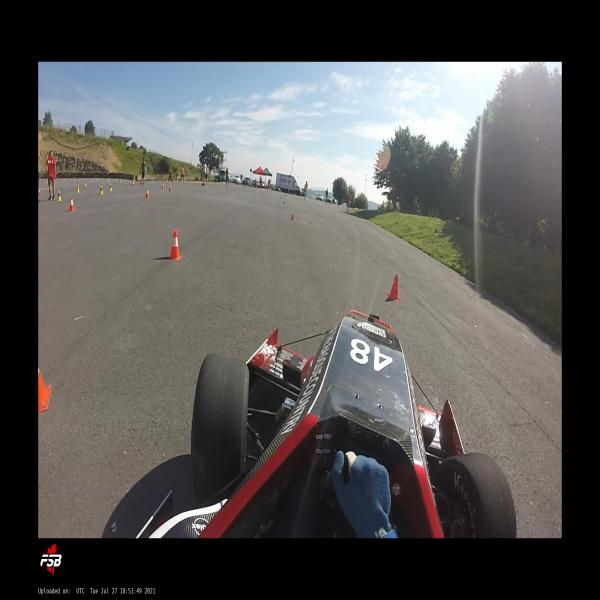orange_cone: (38, 340, 52, 413), (168, 229, 182, 260), (386, 272, 400, 301), (69, 196, 75, 212), (290, 212, 295, 221), (146, 187, 150, 198), (77, 185, 80, 193), (84, 182, 87, 189), (161, 182, 164, 189), (38, 187, 40, 196), (132, 180, 134, 187), (169, 184, 171, 191), (44, 180, 46, 186), (91, 179, 93, 185)
yellow_cone: (57, 190, 62, 201), (109, 183, 113, 192), (100, 185, 103, 195), (77, 184, 80, 193)
